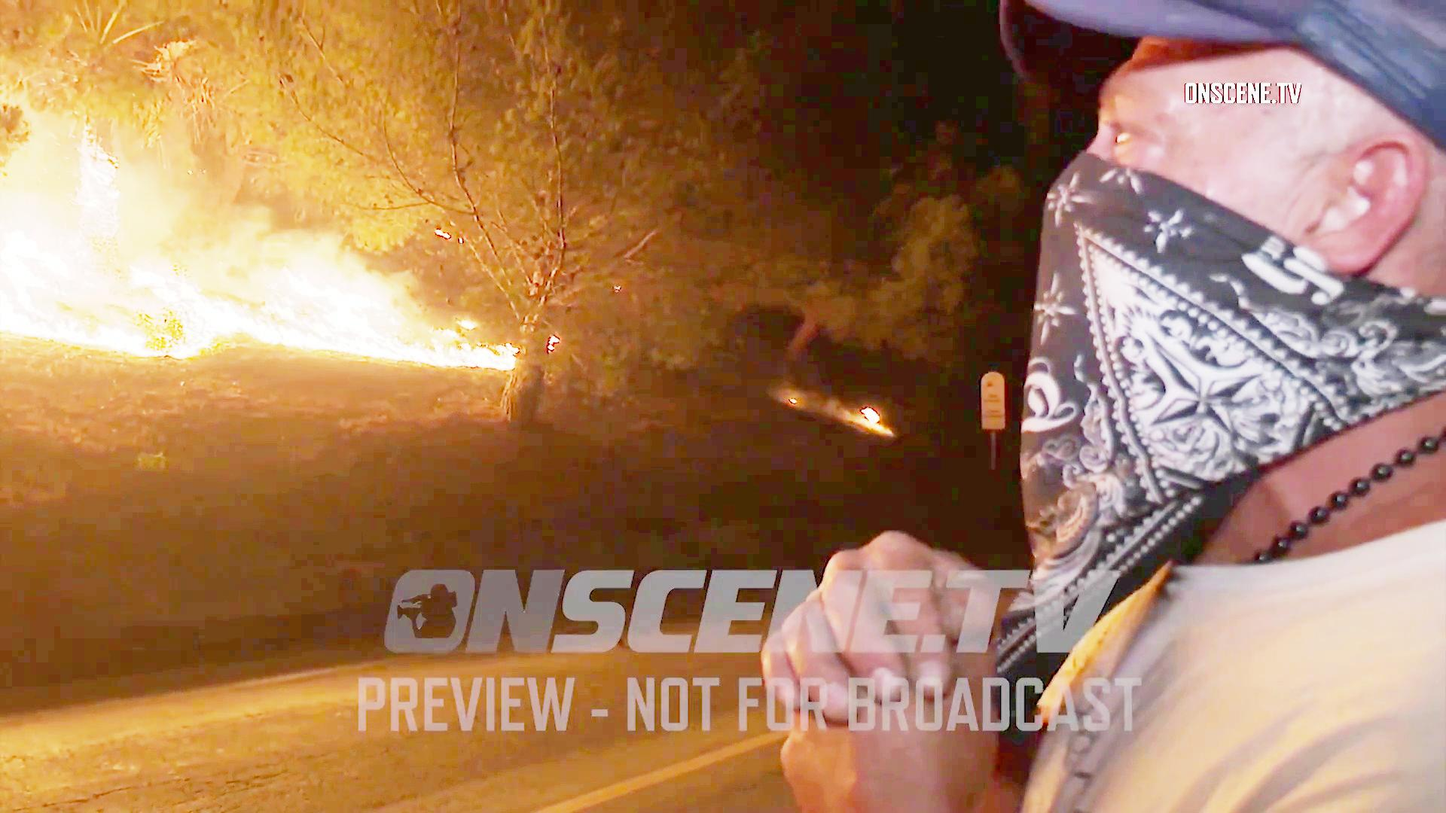fire: (2, 142, 158, 354), (268, 274, 406, 347)
